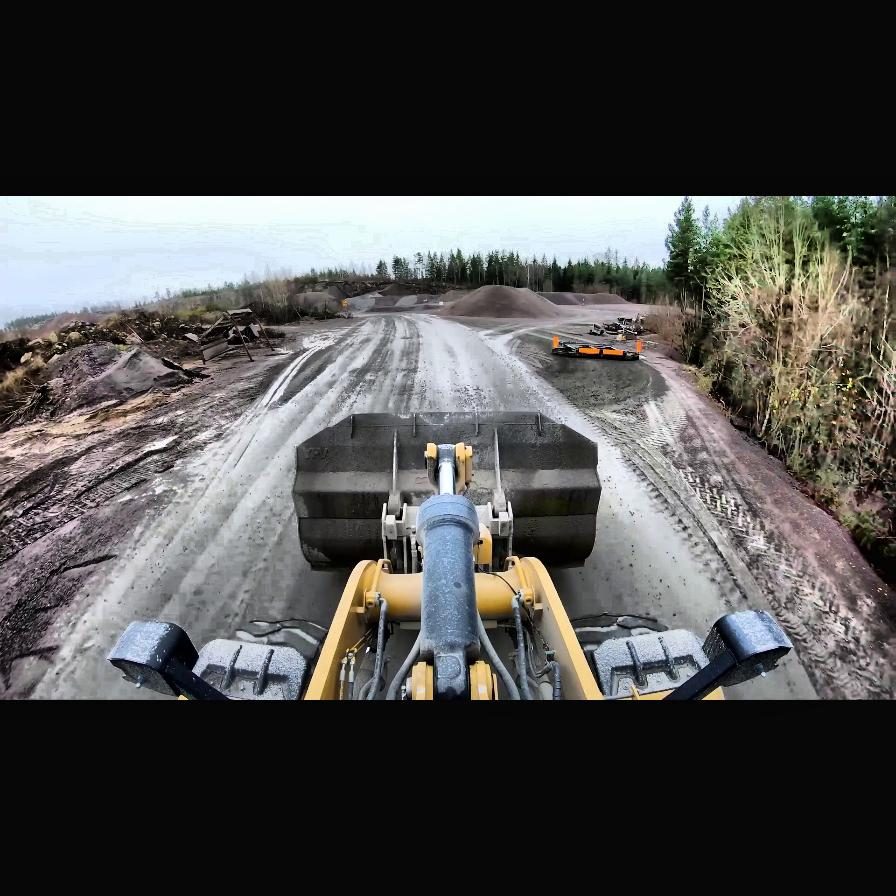anchor: (427, 440, 474, 494)
pile of gravel: (429, 284, 559, 320), (356, 282, 448, 308), (556, 292, 636, 306)
